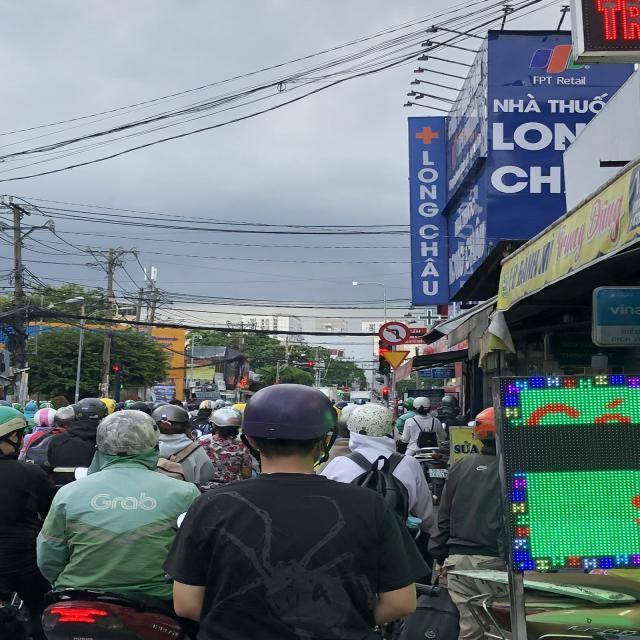Bien bao cam re trai: (377, 320, 416, 346)
Bien bao giao nhau voi duong uu tien: (377, 348, 417, 372)
